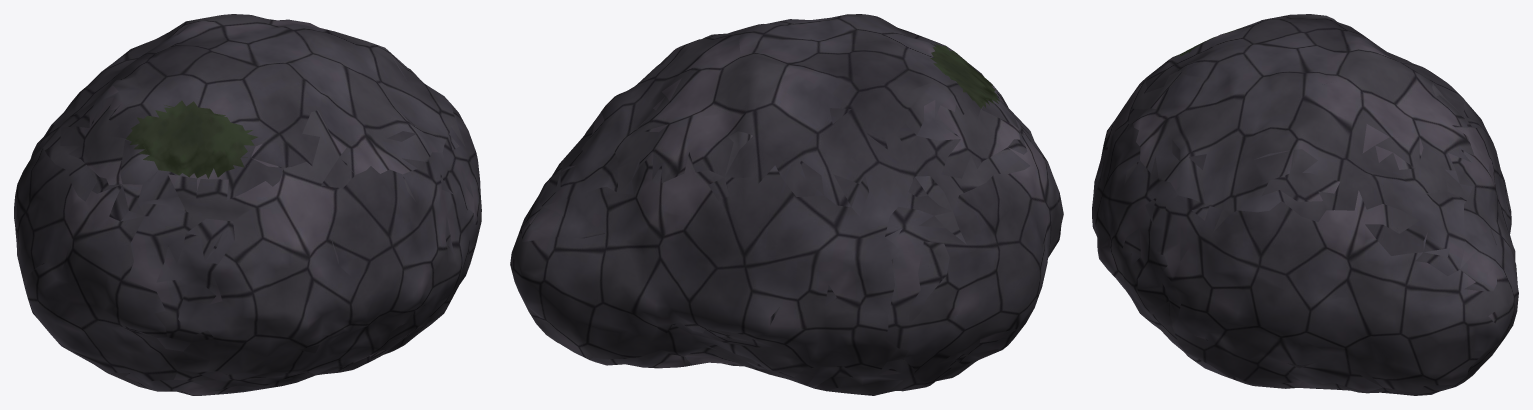
Rendered from rock.glb.
3 renders of one model, left to right at view 1: azimuth 30°, elevation 25°; view 2: azimuth 150°, elevation 25°; view 3: azimuth 270°, elevation 25°, orthographic. The views are drawn at different scales.
Parts seen in each view (by area): view 1: Base; view 2: Base; view 3: Base.
Boxes of the visible parts, x1,y1,x2,y2 form: Base: (14, 14, 481, 395); Base: (510, 14, 1063, 395); Base: (1092, 14, 1518, 395).
Bounding box in the file's own units: 0.878 × 0.6056 × 0.7904.
2 materials, 2 textured.
